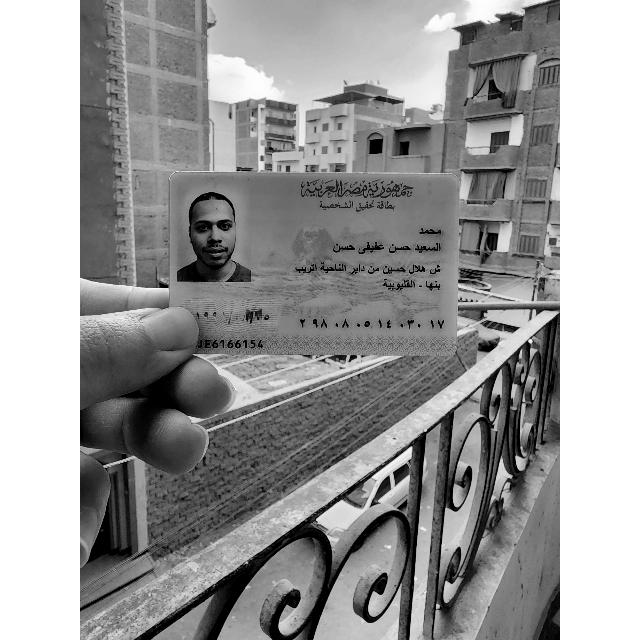front: (170, 176, 458, 354)
